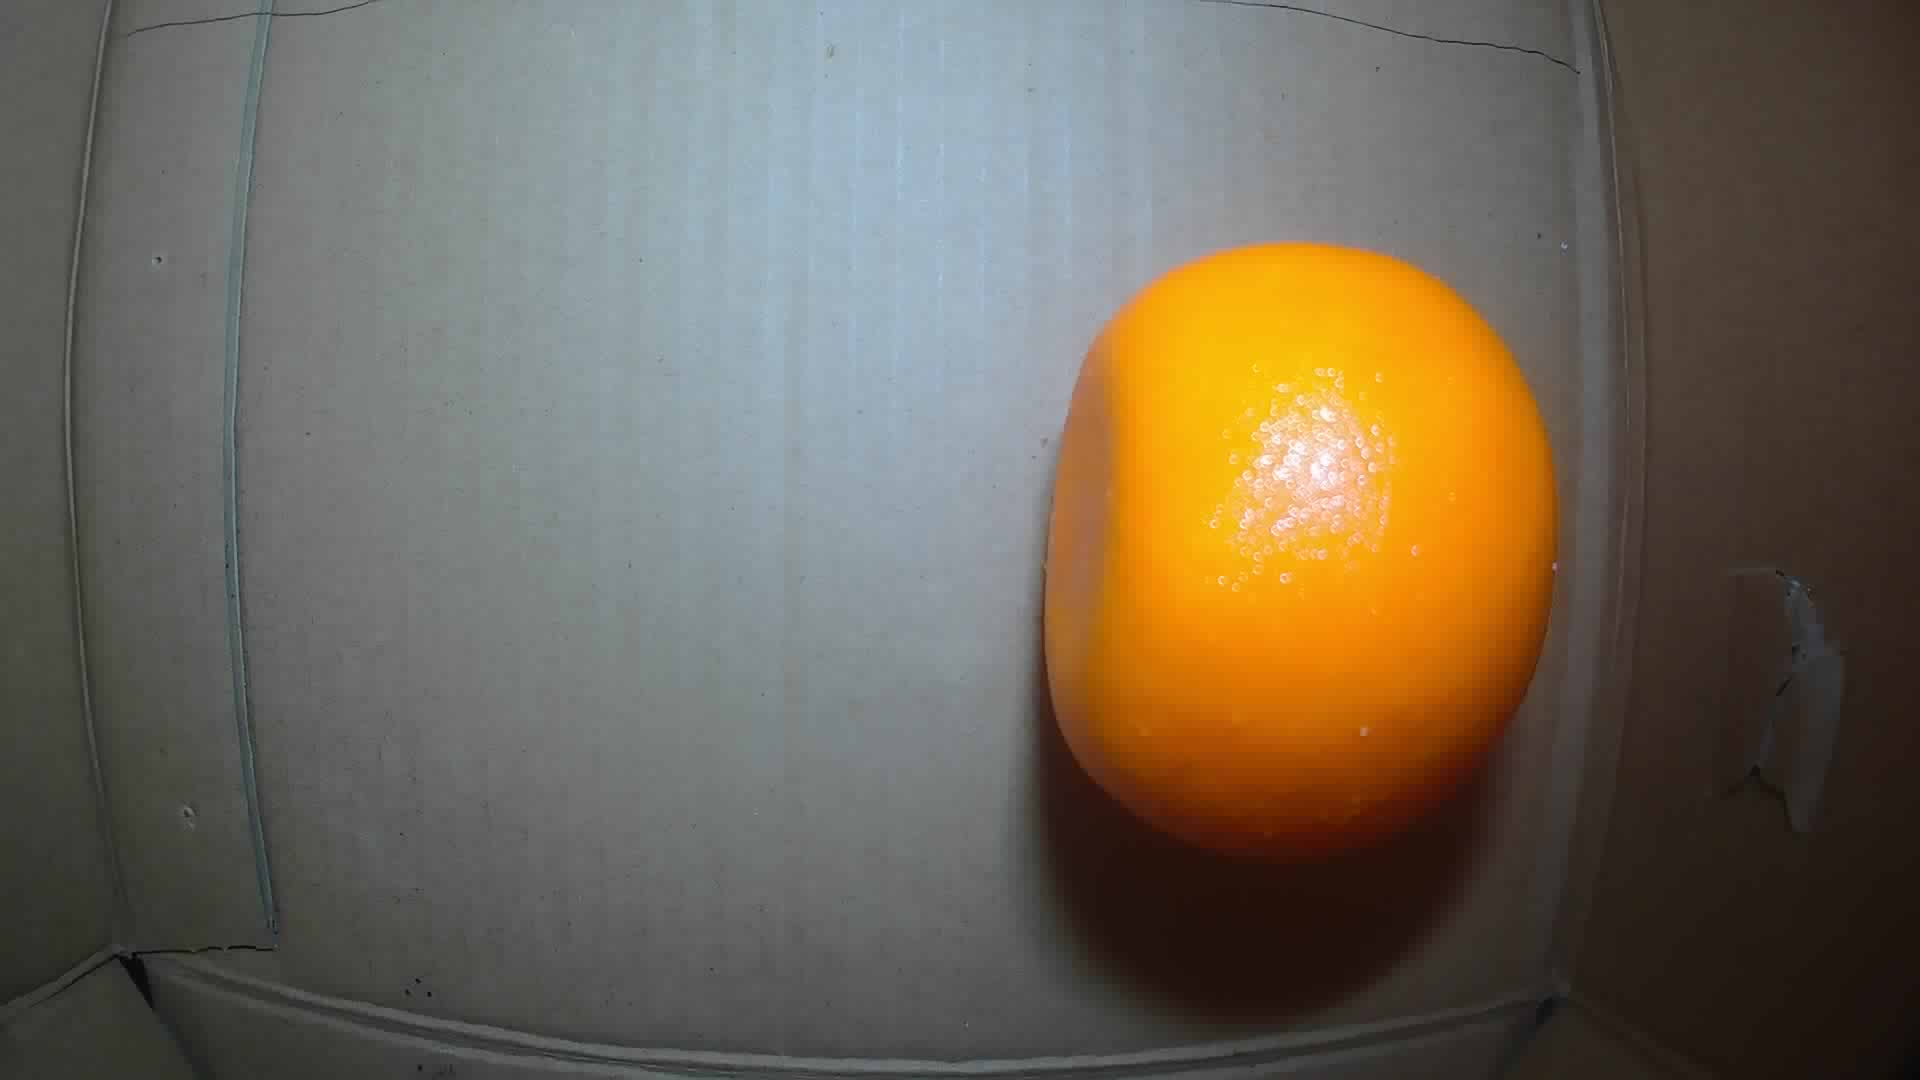orange: (1044, 244, 1563, 862)
